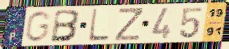4: (150, 6, 172, 41)
5: (178, 7, 204, 40)
B: (49, 9, 82, 44)
G: (23, 10, 52, 44)
L: (87, 8, 110, 43)
Z: (113, 7, 144, 42)
